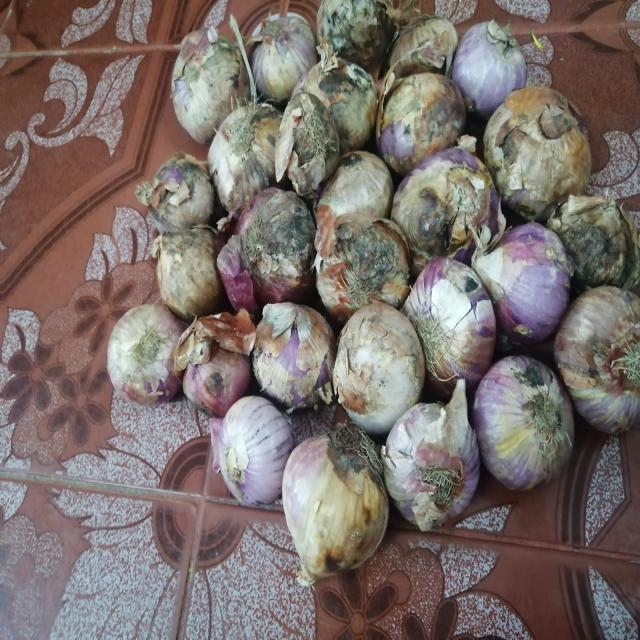rotten: (324, 474, 371, 574), (260, 197, 308, 280), (323, 12, 386, 65), (346, 226, 394, 288), (560, 217, 614, 272), (418, 188, 453, 254), (157, 166, 195, 202), (510, 362, 542, 394)
